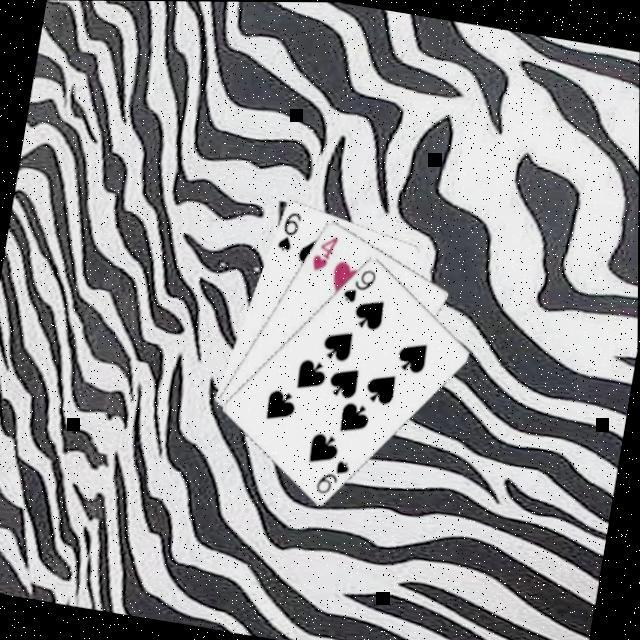4H: (307, 230, 341, 277)
6S: (272, 207, 304, 256)
9S: (310, 454, 352, 501), (338, 262, 380, 308)
